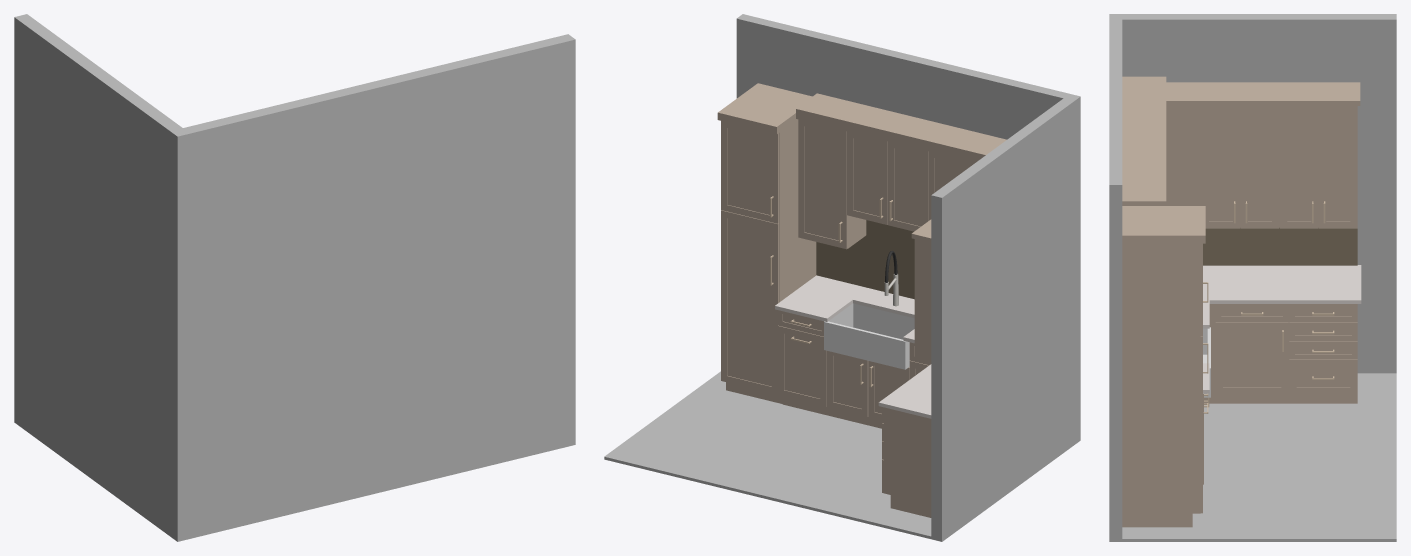
File: kitchen_world.glb
3 views of the same model, side by side, from view 1: azimuth 30°, elevation 25°; view 2: azimuth 150°, elevation 25°; view 3: azimuth 270°, elevation 25° (orthographic). The views are drawn at different scales.
Parts seen in each view (by area): view 1: reference_wall_01, reference_wall_02, reference_floor_01; view 2: reference_wall_02, reference_floor_01, reference_wall_01, door_09, trim_crown_01, door_15, door_10, backsplash_01, base_cabinet_02, fixture_sink_01, tall_cabinet_01, countertop_slab_02 (+11 smaller); view 3: reference_wall_02, reference_floor_01, tall_cabinet_01, reference_wall_01, countertop_slab_01, backsplash_02, trim_crown_01, door_01, door_04, door_03, door_05, door_06 (+13 smaller).
Part boxes in pixels (x1,y1,x2,y2): reference_wall_01: [170, 34, 575, 538]; reference_wall_02: [14, 14, 182, 532]; reference_floor_01: [14, 419, 575, 541]; reference_wall_02: [931, 98, 1074, 538]; reference_floor_01: [604, 371, 1080, 541]; reference_wall_01: [736, 14, 1080, 441]; door_09: [721, 210, 778, 394]; trim_crown_01: [796, 93, 1006, 162]; door_15: [798, 119, 847, 249]; door_10: [721, 121, 778, 223]; backsplash_01: [816, 220, 914, 299]; base_cabinet_02: [884, 407, 931, 517]; fixture_sink_01: [824, 303, 914, 369]; tall_cabinet_01: [779, 119, 816, 302]; countertop_slab_02: [775, 275, 914, 343]; reference_wall_02: [1122, 14, 1396, 373]; reference_floor_01: [1109, 373, 1396, 541]; tall_cabinet_01: [1122, 243, 1200, 527]; reference_wall_01: [1109, 14, 1122, 538]; countertop_slab_01: [1203, 265, 1361, 303]; backsplash_02: [1203, 227, 1357, 265]; trim_crown_01: [1122, 76, 1166, 205]; door_01: [1215, 322, 1288, 394]; door_04: [1240, 106, 1279, 228]; door_03: [1201, 106, 1240, 228]; door_05: [1280, 106, 1318, 228]; door_06: [1319, 106, 1357, 228].
Size of the model in its own units: 3.16 by 3.07 by 2.24.
